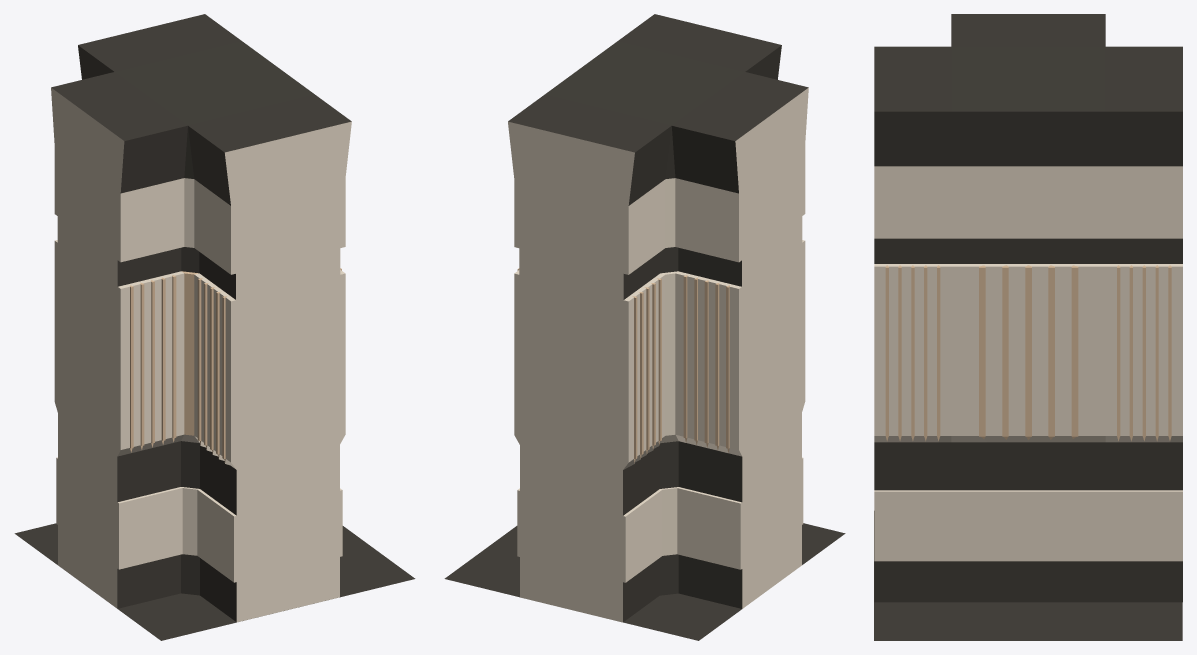
Rendered from 3edge.fbx.
3 renders of one model, left to right at view 1: azimuth 30°, elevation 25°; view 2: azimuth 150°, elevation 25°; view 3: azimuth 270°, elevation 25°, orthographic. The views are drawn at different scales.
Parts seen in each view (by area): view 1: 평면; view 2: 평면; view 3: 평면.
Boxes of the visible parts, bbox=[...] form: 평면: bbox=[14, 14, 415, 640]; 평면: bbox=[444, 14, 845, 640]; 평면: bbox=[874, 14, 1182, 640].
Size of the model in its own units: 200 by 355 by 200.
